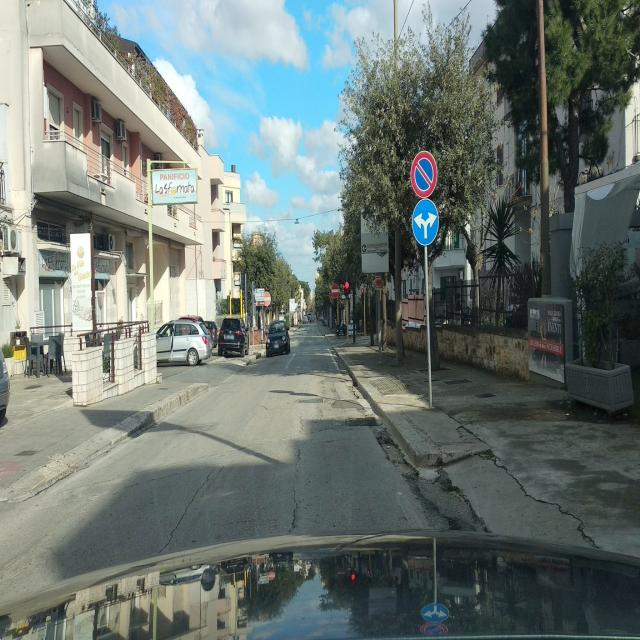car: (153, 319, 212, 366), (218, 314, 250, 358), (0, 337, 11, 429), (265, 321, 291, 357), (204, 319, 219, 351), (336, 322, 348, 338)
